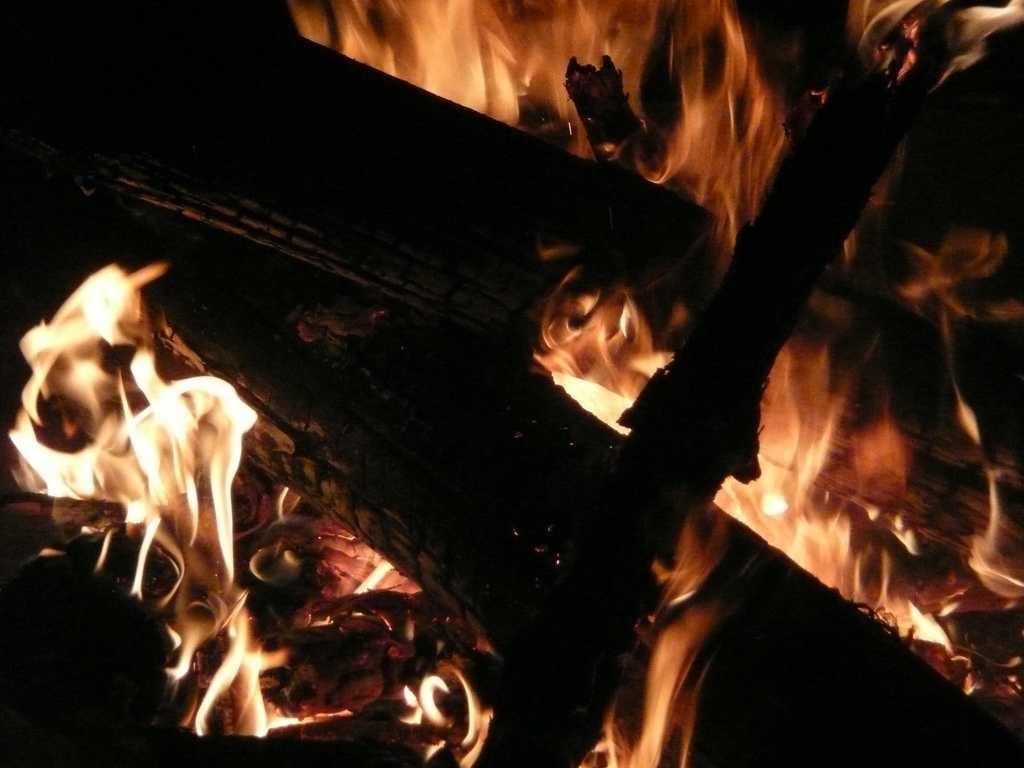fire: (411, 7, 821, 180), (21, 284, 264, 569), (723, 321, 877, 548), (544, 267, 671, 428)
